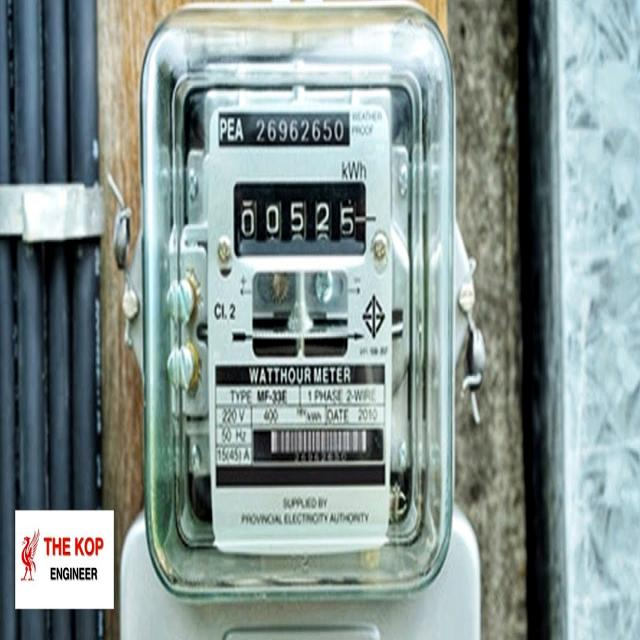digit_area: (233, 188, 365, 250)
